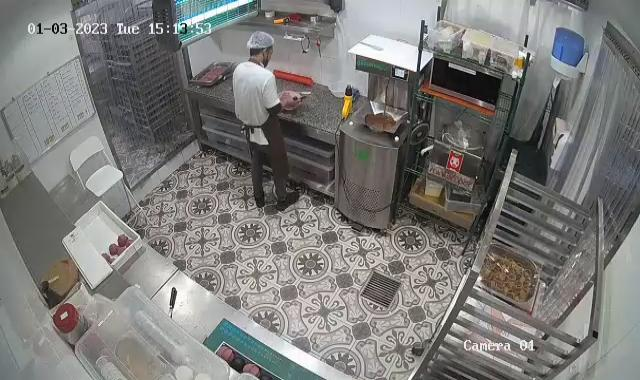hairnet: (246, 29, 274, 56)
